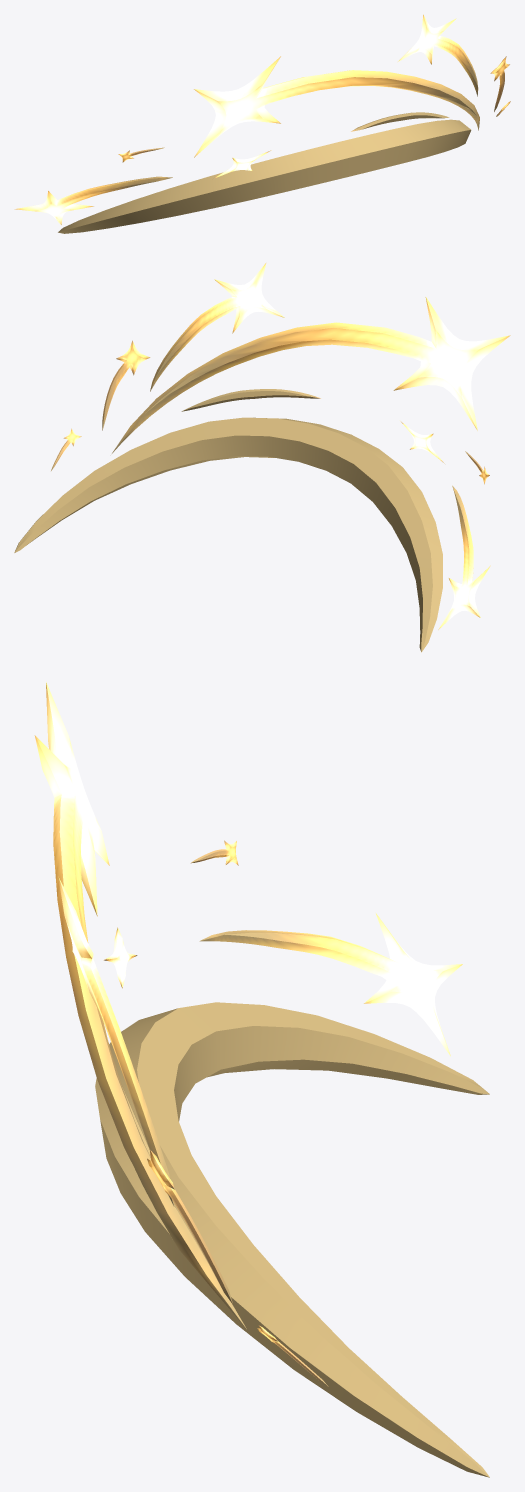
The model's file is Daydream Curve.fbx.
3 renders of one model, top to bottom at view 1: azimuth 30°, elevation 25°; view 2: azimuth 150°, elevation 25°; view 3: azimuth 270°, elevation 25°, orthographic. The views are drawn at different scales.
Parts seen in each view (by area): view 1: Daydream Curve; view 2: Daydream Curve; view 3: Daydream Curve.
Boxes of the visible parts, x1=… form: Daydream Curve: x1=14, y1=14, x2=510, y2=233; Daydream Curve: x1=14, y1=263, x2=510, y2=652; Daydream Curve: x1=34, y1=682, x2=489, y2=1477.
Bounding box in the file's own units: 0.1932 × 0.0965 × 0.0849.
